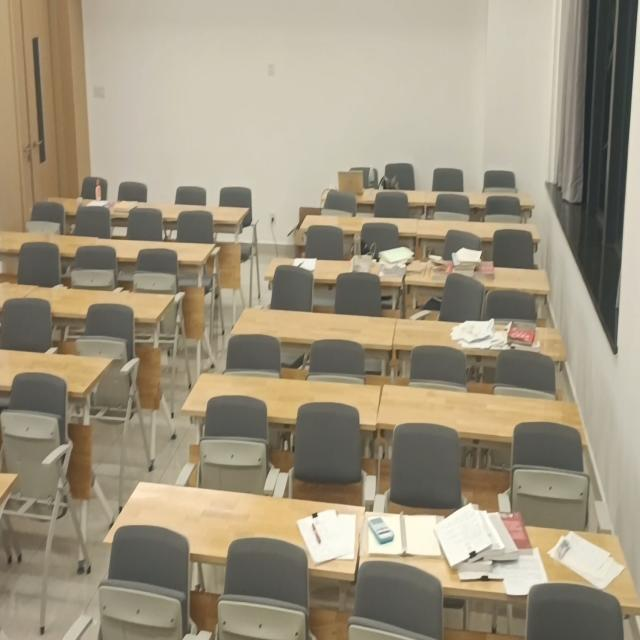Non-empty: (103, 481, 366, 585), (363, 512, 639, 604), (394, 316, 566, 356), (405, 256, 548, 295), (266, 253, 414, 280), (44, 193, 151, 218), (320, 181, 427, 205)
empty: (384, 387, 586, 449), (183, 370, 380, 422), (229, 301, 397, 347), (12, 282, 177, 326), (0, 344, 111, 395), (80, 240, 216, 267), (301, 212, 419, 238), (426, 186, 536, 213), (150, 203, 247, 221)
